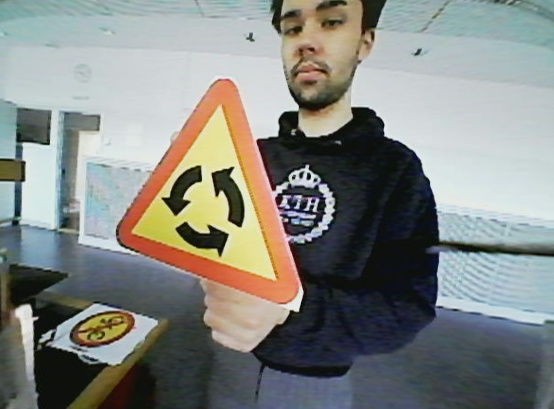roundabout_warning: (113, 65, 305, 321)
